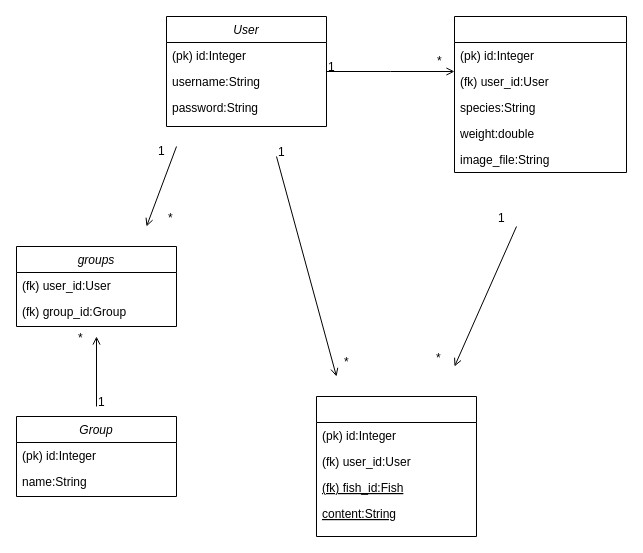
This 643x553 diagram has some shape labels left out. The shapes that lost their labels are listed below. From the top down, each one's box as (x1, y1, x2, y2) in pixels, then its label:
(454, 16, 626, 172): Fish
(316, 396, 476, 536): Comment
